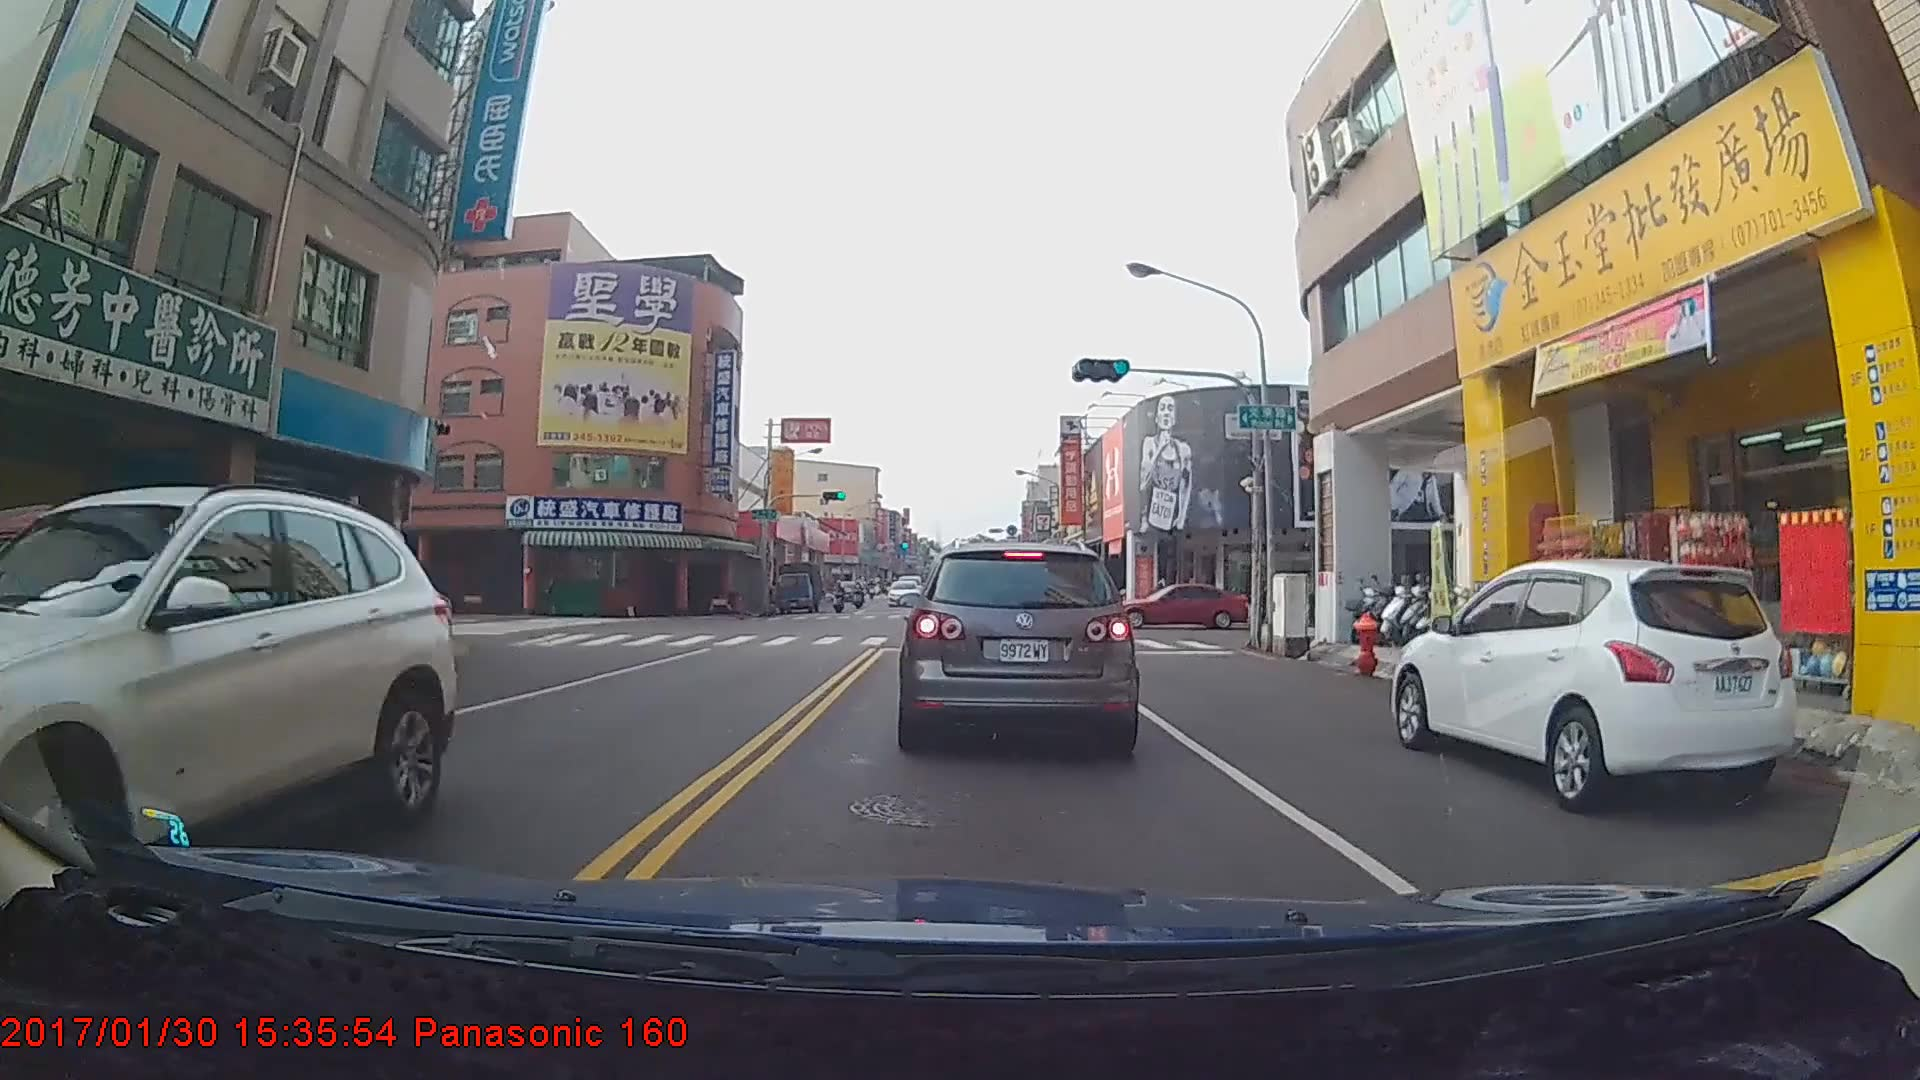rider: (826, 579, 849, 614), (847, 576, 867, 605)
vehicle: (0, 489, 487, 958), (1390, 556, 1799, 813), (899, 538, 1135, 752), (1106, 581, 1245, 633), (772, 561, 824, 614), (886, 579, 921, 609)
